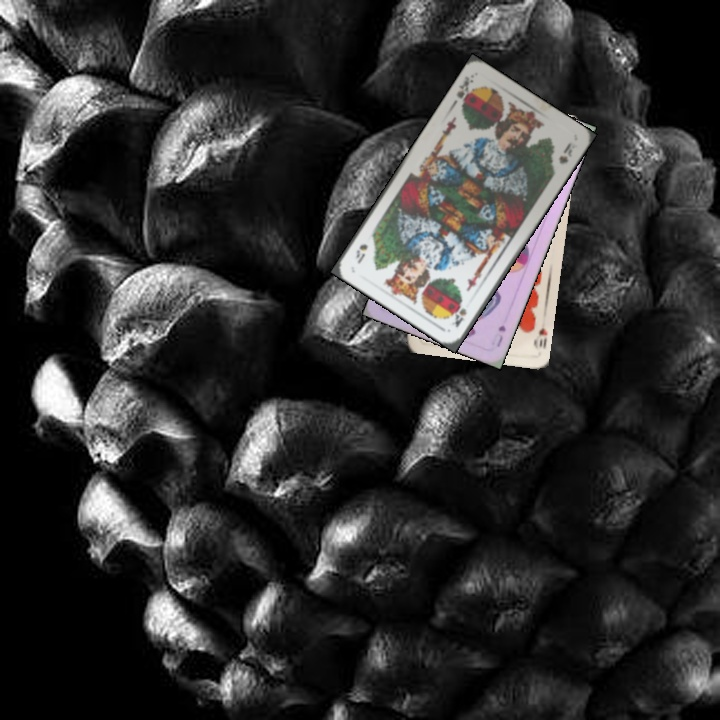H10: (529, 323, 550, 352)
SK: (452, 71, 476, 109), (448, 300, 469, 330)
SU: (492, 321, 508, 350)
